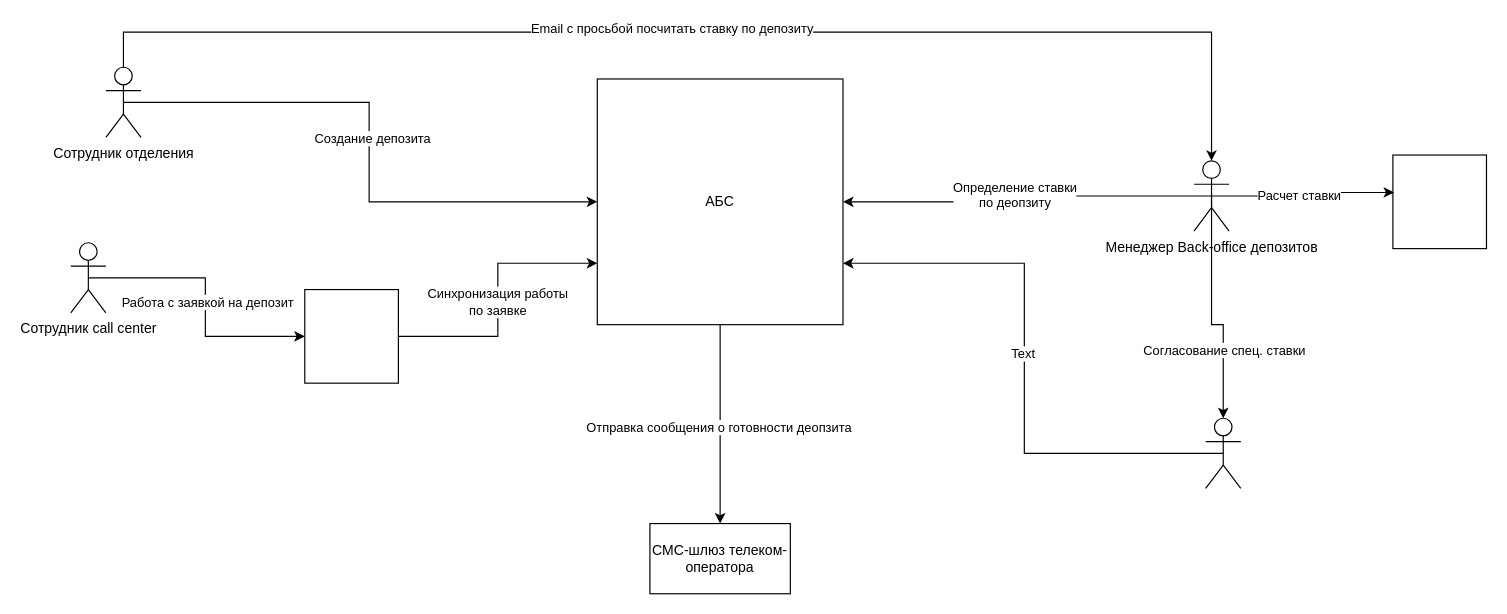
Some shapes in this 1507 by 614 pixel diagram are drawn without their labels. Each missing label, with the centre of its shape:
Call Center System: pixel 351 335
Excel: pixel 1439 201
Менеджер Back-office кредитования: pixel 1223 452
